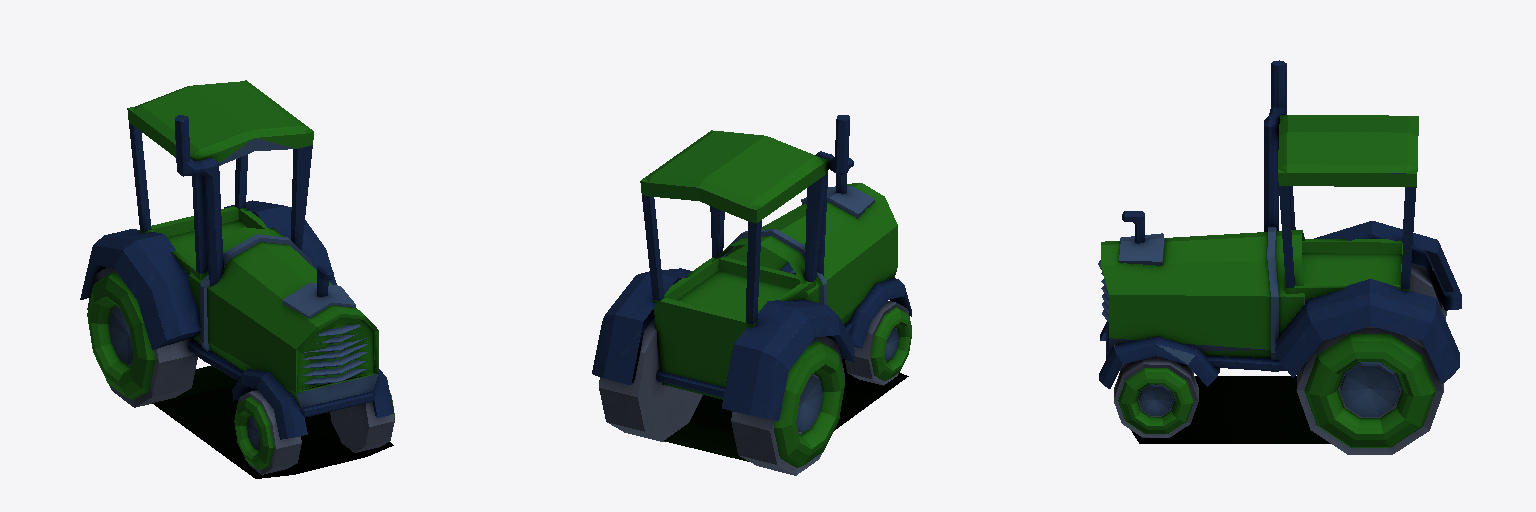
3 renders of one model, left to right at view 1: azimuth 30°, elevation 25°; view 2: azimuth 150°, elevation 25°; view 3: azimuth 270°, elevation 25°, orthographic.
Visible parts, largest first — view 1: Traktor1:pCylinder37; view 2: Traktor1:pCylinder37; view 3: Traktor1:pCylinder37.
Boxes of the visible parts, box(x1,y1,x2,y2) form: Traktor1:pCylinder37: box(80, 80, 394, 478); Traktor1:pCylinder37: box(592, 115, 911, 475); Traktor1:pCylinder37: box(1098, 60, 1461, 454).
Size of the model in its own units: 2.5 by 3.82 by 4.03.
1 materials, 1 textured.